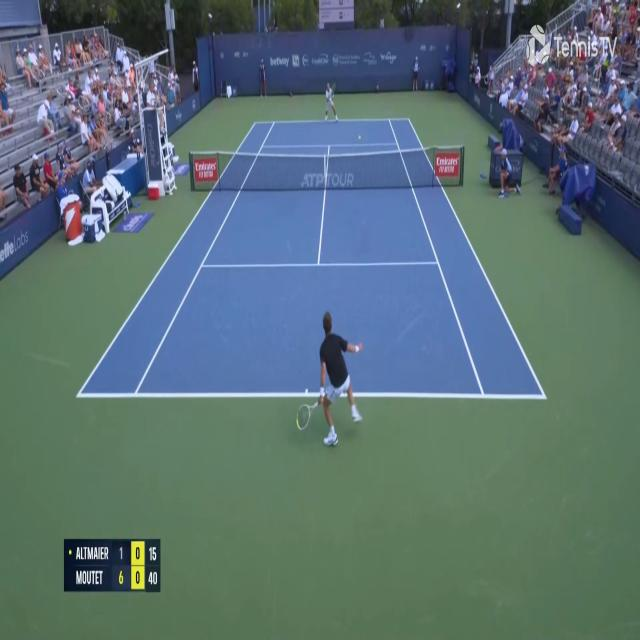tennis-player: (302, 307, 368, 450), (322, 80, 340, 125)
